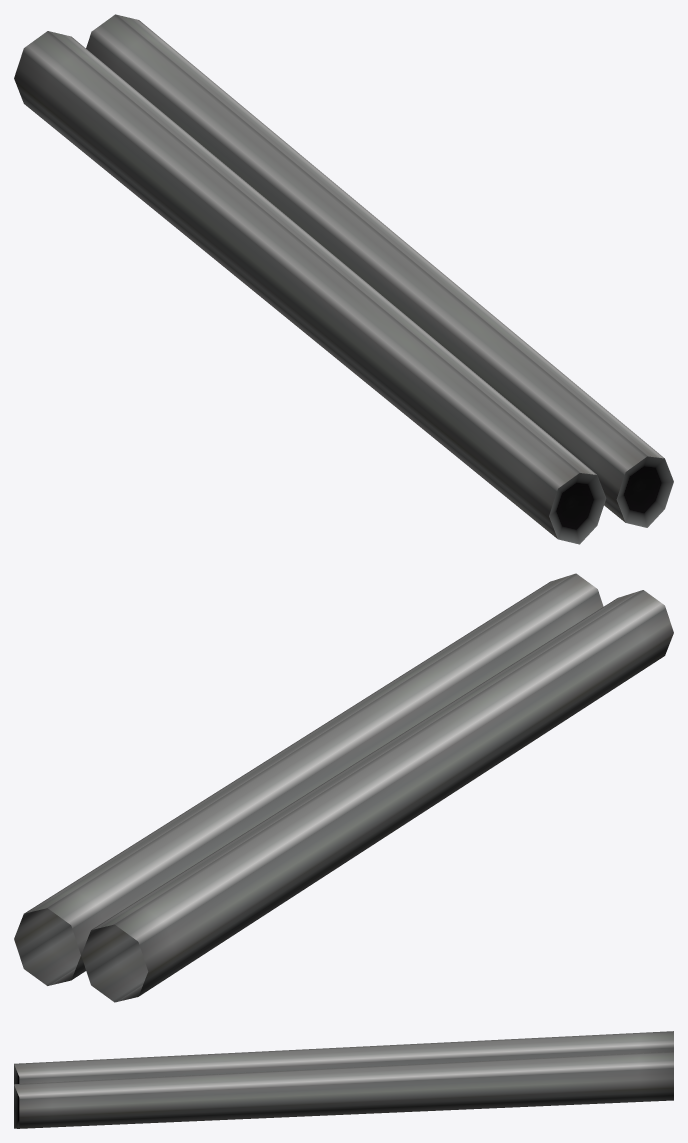
The model's file is exh_lr_t2.glb.
The picture shows the model from 3 angles, top to bottom: view 1: azimuth 30°, elevation 25°; view 2: azimuth 150°, elevation 25°; view 3: azimuth 270°, elevation 25°; orthographic projection. The views are drawn at different scales.
Visible parts, largest first — view 1: exh_lr_t2; view 2: exh_lr_t2; view 3: exh_lr_t2.
Part boxes in pixels (x1,y1,x2,y2): exh_lr_t2: [14, 14, 673, 544]; exh_lr_t2: [14, 573, 673, 1002]; exh_lr_t2: [14, 1031, 673, 1128].
Bounding box in the file's own units: 0.1869 × 0.1643 × 1.27.
Materials: 1 (1 with a texture image).
